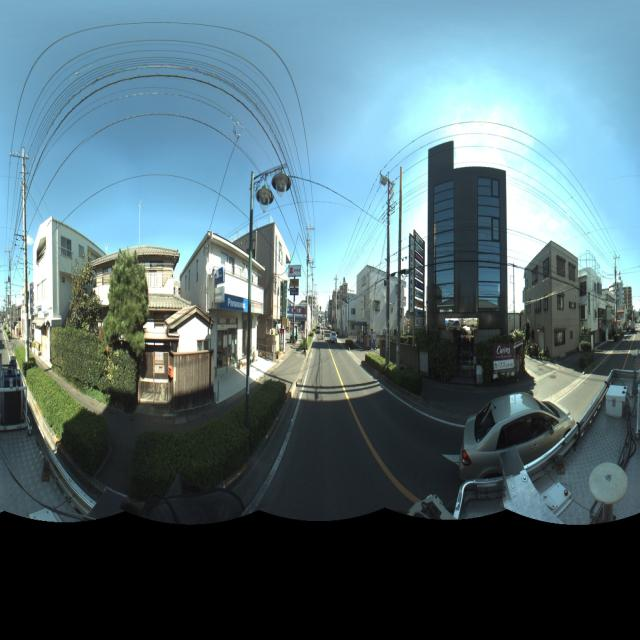b_1: (427, 141, 505, 349), (194, 231, 264, 387), (519, 233, 577, 361), (33, 215, 88, 323), (358, 250, 412, 357), (256, 221, 290, 363), (574, 254, 604, 348), (407, 227, 426, 364), (340, 280, 364, 340)
